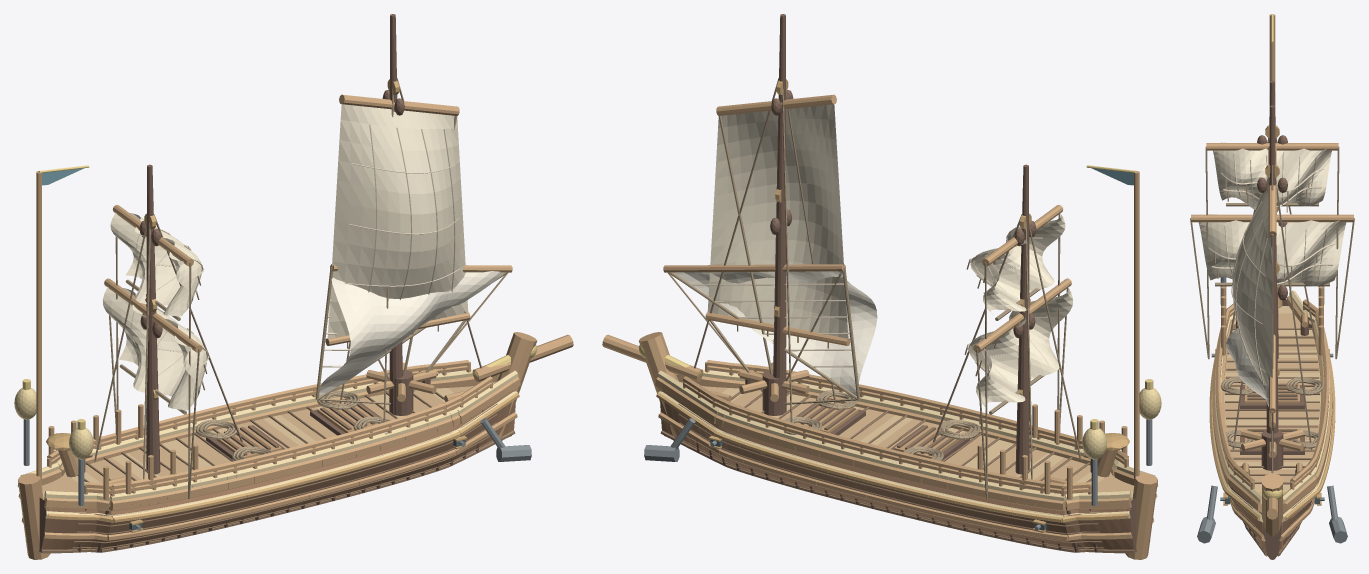
Rendered from atlantic_brigantine-v5.glb.
The picture shows the model from 3 angles, left to right: view 1: azimuth 30°, elevation 25°; view 2: azimuth 150°, elevation 25°; view 3: azimuth 270°, elevation 25°; orthographic projection. The views are drawn at different scales.
Visible parts, largest first — view 1: atlantic_brigantine_sails_sail, atlantic_brigantine_hull_wood, atlantic_brigantine_railings_wood, atlantic_brigantine_hull_pale, atlantic_brigantine_sails_sailbright, atlantic_brigantine_hull_seam, atlantic_brigantine_hull_hull2, atlantic_brigantine_hull_hull, atlantic_brigantine_masts_darkwood, atlantic_brigantine_hull_deck, atlantic_brigantine_rigging_wood, atlantic_brigantine_rigging_rope (+13 smaller); view 2: atlantic_brigantine_sails_sail, atlantic_brigantine_hull_wood, atlantic_brigantine_railings_wood, atlantic_brigantine_hull_pale, atlantic_brigantine_masts_darkwood, atlantic_brigantine_hull_seam, atlantic_brigantine_sails_sailbright, atlantic_brigantine_rigging_wood, atlantic_brigantine_hull_hull2, atlantic_brigantine_rigging_rope, atlantic_brigantine_hull_hull, atlantic_brigantine_hull_deck (+14 smaller); view 3: atlantic_brigantine_sails_sail, atlantic_brigantine_hull_wood, atlantic_brigantine_hull_deck, atlantic_brigantine_rigging_wood, atlantic_brigantine_hull_seam, atlantic_brigantine_railings_wood, atlantic_brigantine_rigging_rope, atlantic_brigantine_rigging_sailshade, atlantic_brigantine_masts_darkwood, atlantic_brigantine_hull_pale, atlantic_brigantine_hull_decklight, atlantic_brigantine_fittings_darkwood (+14 smaller).
Part boxes in pixels (x1,y1,x2,y2): atlantic_brigantine_sails_sail: [103, 104, 468, 410]; atlantic_brigantine_hull_wood: [17, 332, 573, 559]; atlantic_brigantine_railings_wood: [47, 360, 492, 504]; atlantic_brigantine_hull_pale: [19, 369, 518, 522]; atlantic_brigantine_sails_sailbright: [319, 271, 504, 396]; atlantic_brigantine_hull_seam: [40, 391, 515, 553]; atlantic_brigantine_hull_hull2: [41, 390, 514, 549]; atlantic_brigantine_hull_hull: [40, 399, 515, 551]; atlantic_brigantine_masts_darkwood: [139, 14, 404, 474]; atlantic_brigantine_hull_deck: [41, 386, 473, 492]; atlantic_brigantine_rigging_wood: [104, 94, 512, 352]; atlantic_brigantine_rigging_rope: [109, 116, 508, 498]; atlantic_brigantine_sails_sail: [707, 104, 1072, 406]; atlantic_brigantine_hull_wood: [602, 332, 1158, 559]; atlantic_brigantine_railings_wood: [683, 360, 1128, 504]; atlantic_brigantine_hull_pale: [657, 369, 1156, 522]; atlantic_brigantine_masts_darkwood: [770, 14, 1036, 474]; atlantic_brigantine_hull_seam: [660, 391, 1135, 553]; atlantic_brigantine_sails_sailbright: [674, 271, 877, 395]; atlantic_brigantine_rigging_wood: [663, 94, 1071, 352]; atlantic_brigantine_hull_hull2: [661, 390, 1134, 549]; atlantic_brigantine_rigging_rope: [667, 116, 1068, 498]; atlantic_brigantine_hull_hull: [660, 399, 1135, 551]; atlantic_brigantine_hull_deck: [702, 386, 1134, 492]; atlantic_brigantine_sails_sail: [1198, 142, 1346, 415]; atlantic_brigantine_hull_wood: [1212, 295, 1332, 548]; atlantic_brigantine_hull_deck: [1224, 313, 1320, 494]; atlantic_brigantine_rigging_wood: [1191, 143, 1353, 427]; atlantic_brigantine_hull_seam: [1225, 328, 1319, 556]; atlantic_brigantine_railings_wood: [1215, 299, 1329, 489]; atlantic_brigantine_rigging_rope: [1190, 147, 1354, 448]; atlantic_brigantine_rigging_sailshade: [1208, 152, 1336, 386]; atlantic_brigantine_masts_darkwood: [1257, 81, 1287, 433]; atlantic_brigantine_hull_pale: [1212, 290, 1332, 522]; atlantic_brigantine_hull_decklight: [1224, 306, 1320, 491]; atlantic_brigantine_fittings_darkwood: [1236, 320, 1308, 474].
Bounding box in the file's own units: 50.01 × 39.63 × 14.47.
